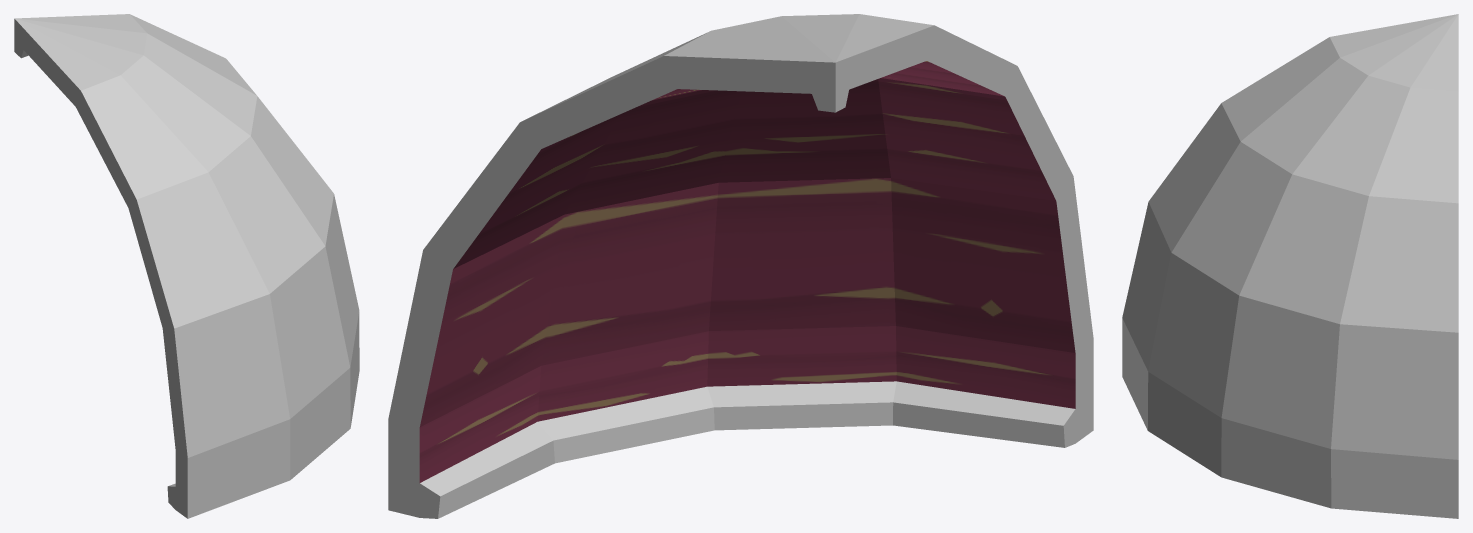
File: SM_Bld_Roof_Convex_Corner_Out_02.fbx
3 renders of one model, left to right at view 1: azimuth 30°, elevation 25°; view 2: azimuth 150°, elevation 25°; view 3: azimuth 270°, elevation 25°, orthographic. The views are drawn at different scales.
Parts seen in each view (by area): view 1: SM_Bld_Roof_Convex_Corner_Out_02; view 2: SM_Bld_Roof_Convex_Corner_Out_02; view 3: SM_Bld_Roof_Convex_Corner_Out_02.
Boxes of the visible parts, <box> form: SM_Bld_Roof_Convex_Corner_Out_02: <box>14,14,359,518</box>; SM_Bld_Roof_Convex_Corner_Out_02: <box>388,14,1093,518</box>; SM_Bld_Roof_Convex_Corner_Out_02: <box>1122,14,1458,518</box>.
Size of the model in its own units: 259 by 309 by 259.
